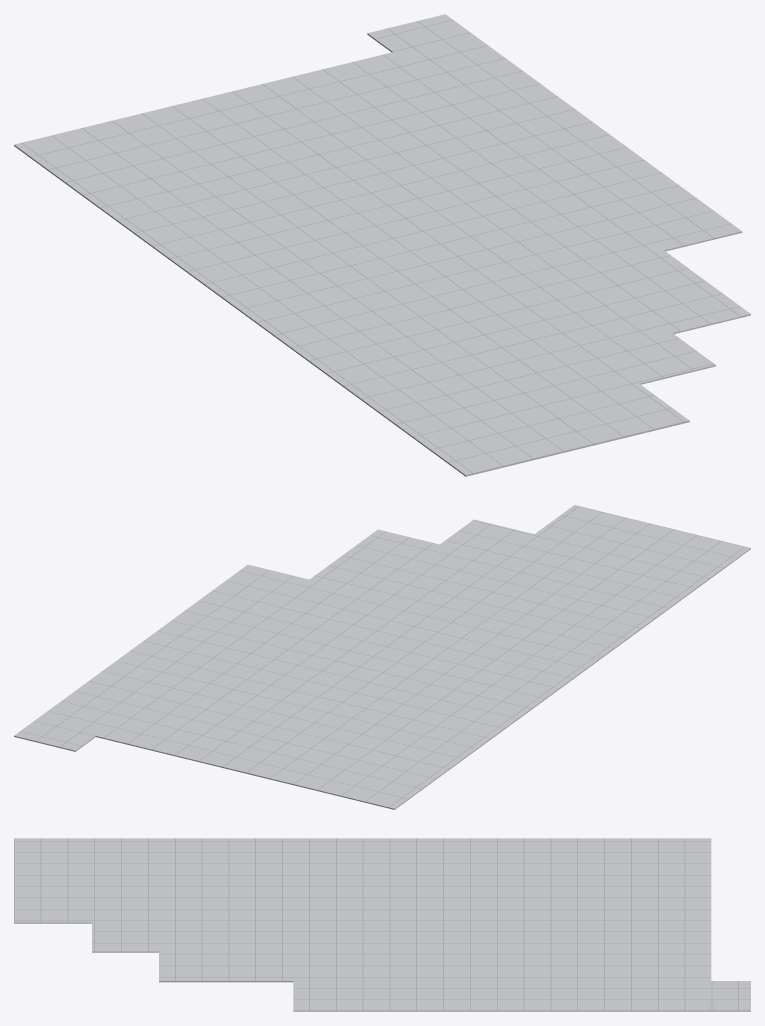
Rendered from SM_MPR4_RoofSkin_03.fbx.
3 views of the same model, one above another, from view 1: azimuth 30°, elevation 25°; view 2: azimuth 150°, elevation 25°; view 3: azimuth 270°, elevation 25° (orthographic). The views are drawn at different scales.
Parts seen in each view (by area): view 1: SM_MPR4_RoofSkin_03; view 2: SM_MPR4_RoofSkin_03; view 3: SM_MPR4_RoofSkin_03.
Part boxes in pixels (x1,y1,x2,y2): SM_MPR4_RoofSkin_03: (14,14,750,476); SM_MPR4_RoofSkin_03: (14,505,750,809); SM_MPR4_RoofSkin_03: (14,838,750,1011).
Size of the model in its own units: 9261 by 16756 by 28.2.
